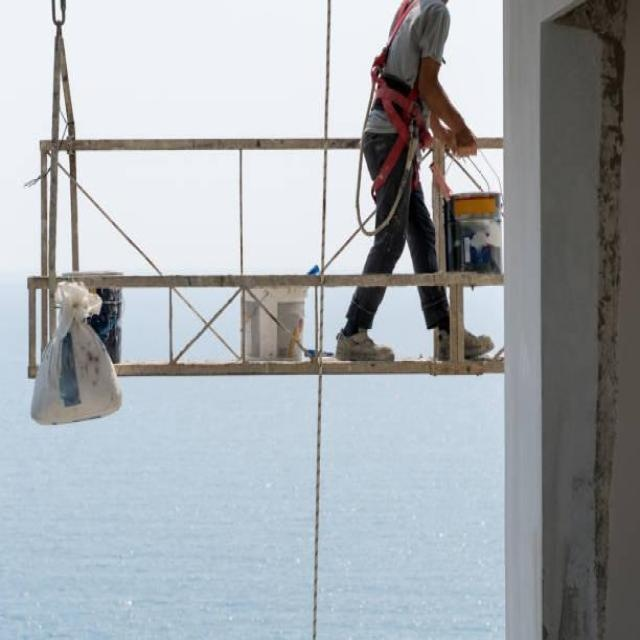Arnes_seguridad: (364, 0, 441, 204)
